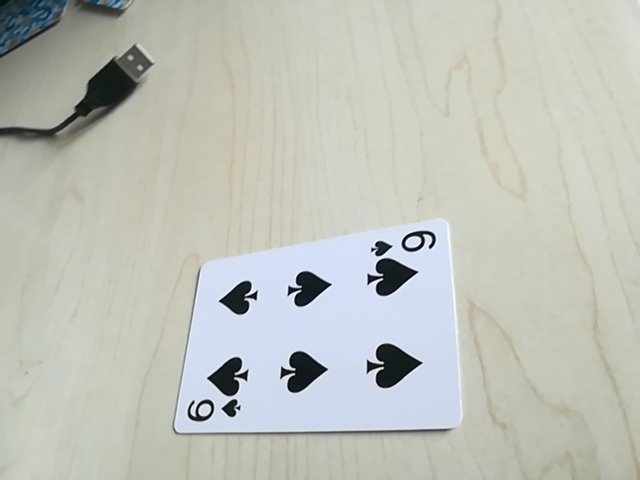ht 6: (370, 226, 442, 259), (178, 396, 244, 430)
